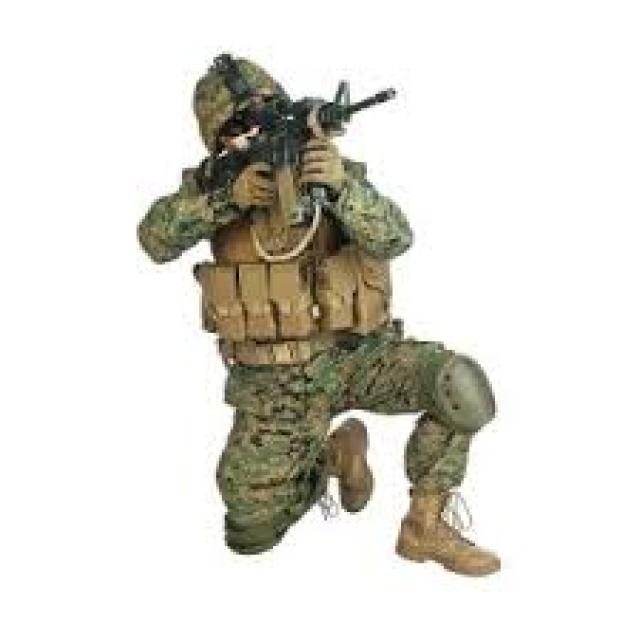soldier: (136, 53, 503, 583)
